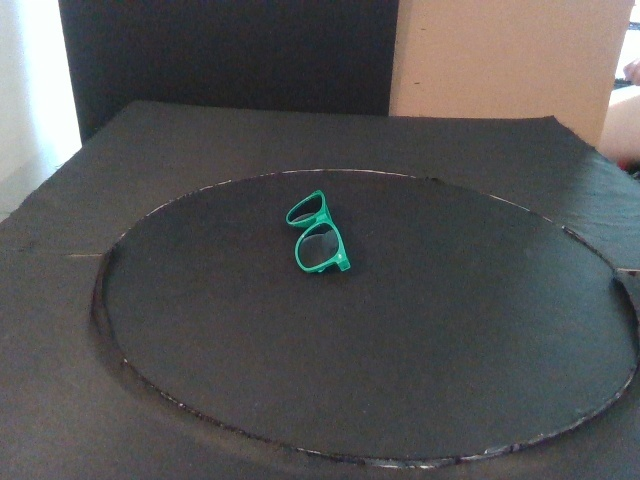glasses: (285, 189, 351, 275)
